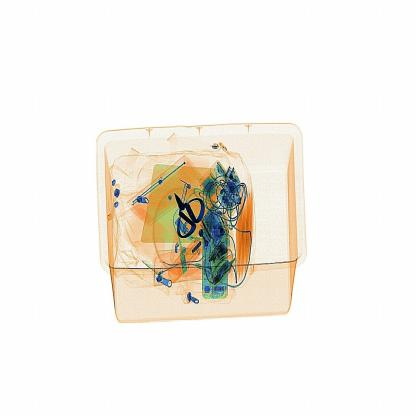gun: (162, 183, 206, 247)
